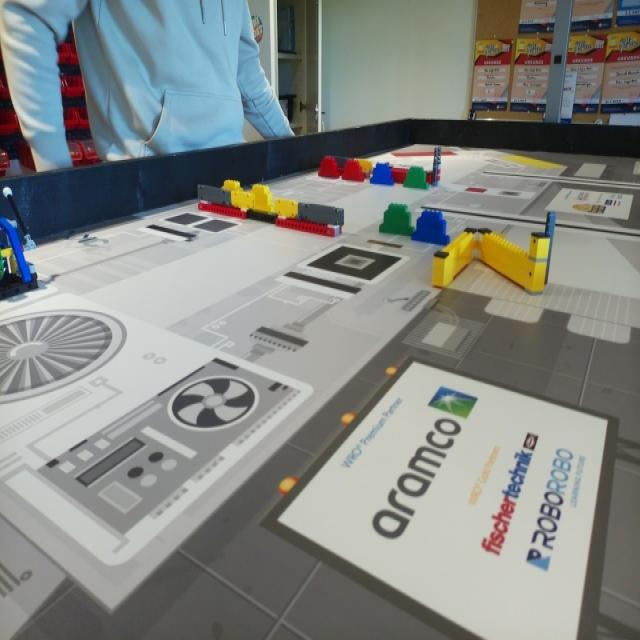blau: (415, 212, 452, 245), (371, 164, 392, 184)
gruen: (380, 207, 410, 236), (405, 168, 428, 190)
rot: (342, 162, 364, 184), (319, 157, 338, 176)
yellow: (254, 184, 273, 212), (222, 178, 240, 190)
